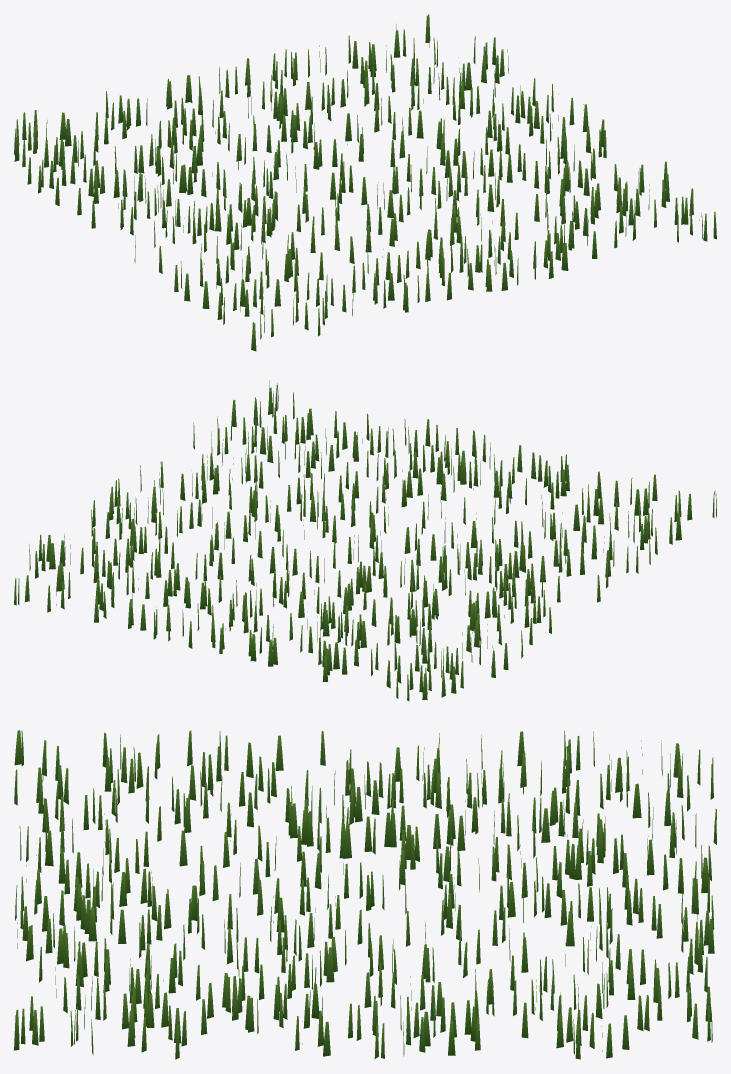
The model's file is Turf_Lawn_v3.glb.
3 renders of one model, top to bottom at view 1: azimuth 30°, elevation 25°; view 2: azimuth 150°, elevation 25°; view 3: azimuth 270°, elevation 25°, orthographic. The views are drawn at different scales.
Visible parts, largest first — view 1: Turf_Lawn_v3; view 2: Turf_Lawn_v3; view 3: Turf_Lawn_v3.
Boxes of the visible parts, box(x1,y1,x2,y2) form: Turf_Lawn_v3: box(14, 14, 716, 351); Turf_Lawn_v3: box(14, 380, 716, 701); Turf_Lawn_v3: box(14, 730, 716, 1059).
Bounding box in the file's own units: 1.22 × 0.0669 × 1.23.
